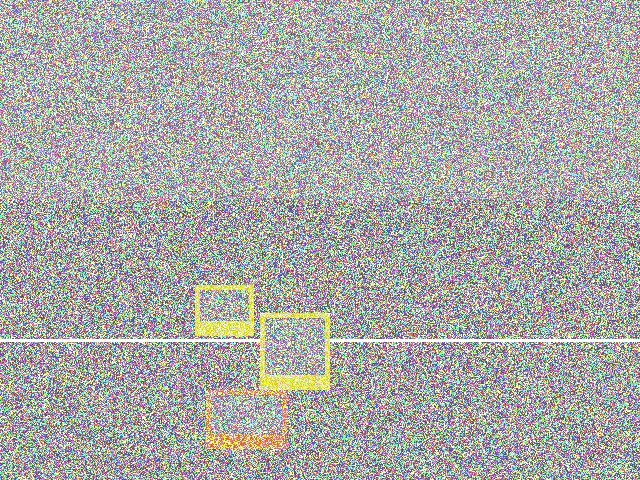car: (120, 175, 192, 268)
